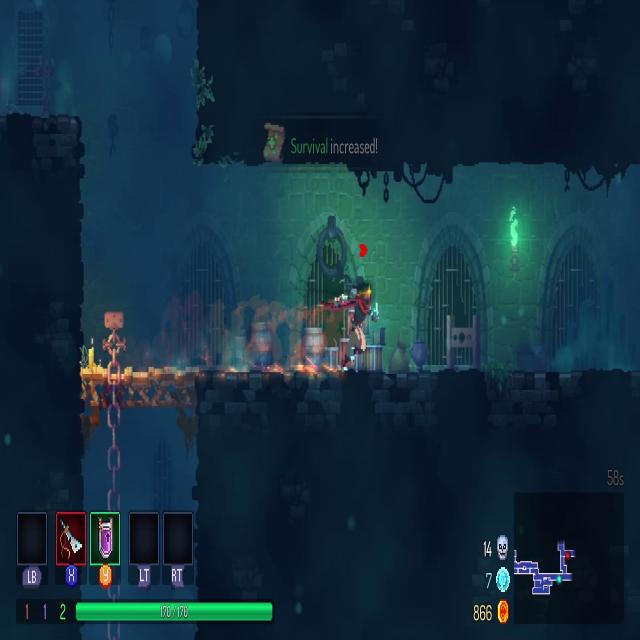agents: (328, 285, 381, 373)
